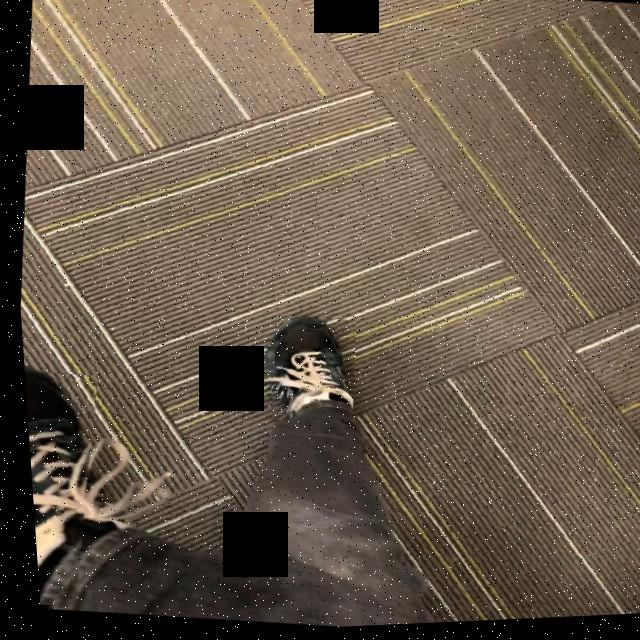shoe: (19, 371, 80, 588), (265, 319, 347, 422)
